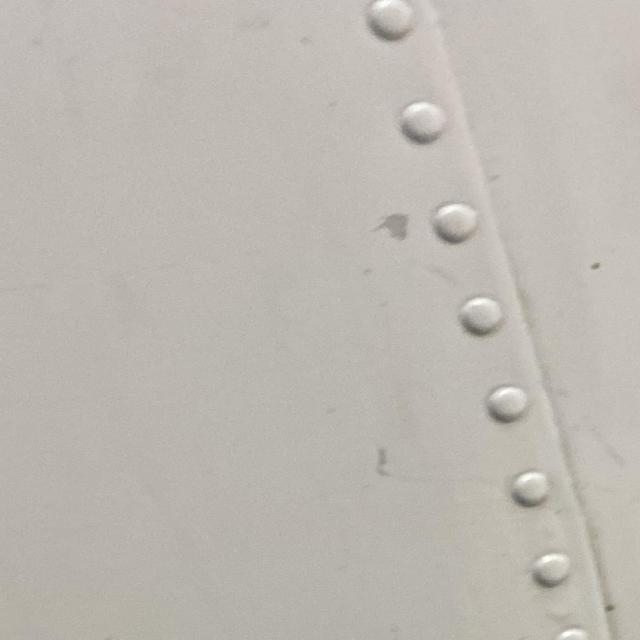Paint-off: (351, 436, 458, 491), (375, 210, 408, 237)
